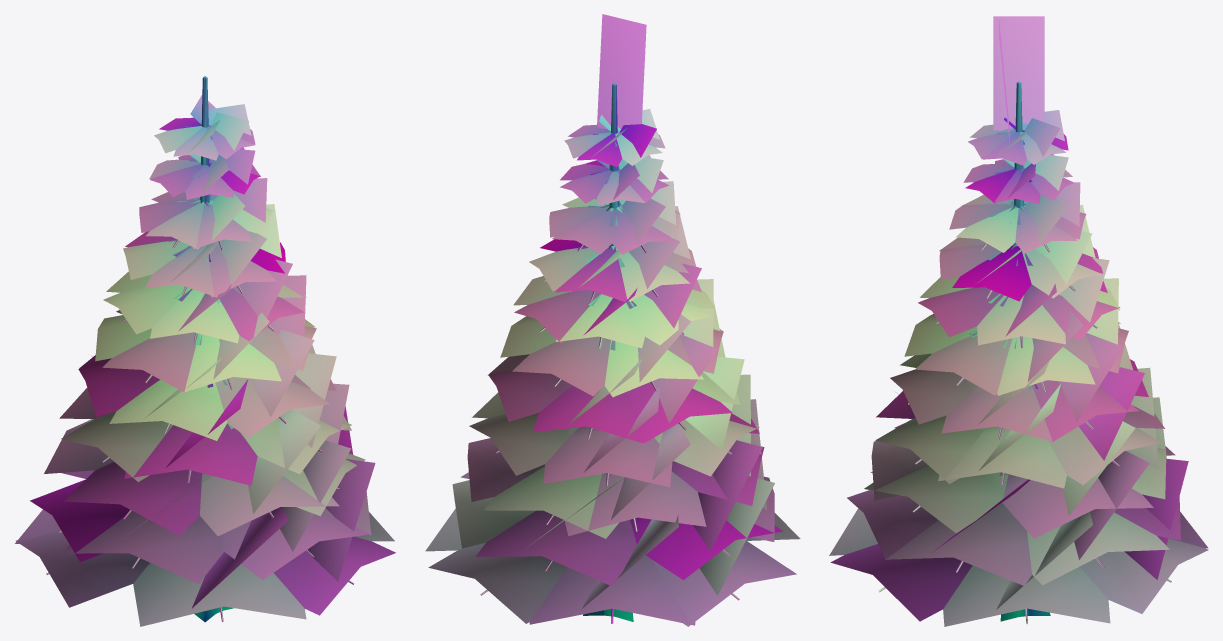
Rendered from nadelbaum.glb.
The picture shows the model from 3 angles, left to right: view 1: azimuth 30°, elevation 25°; view 2: azimuth 150°, elevation 25°; view 3: azimuth 270°, elevation 25°; orthographic projection.
Visible parts, largest first — view 1: nadelbaum_lod0; view 2: nadelbaum_lod0; view 3: nadelbaum_lod0.
Part boxes in pixels (x1=…): nadelbaum_lod0: x1=15, y1=76, x2=395, y2=626; nadelbaum_lod0: x1=425, y1=14, x2=800, y2=626; nadelbaum_lod0: x1=829, y1=16, x2=1208, y2=626.
Size of what is drawn, in the model's own units: 7.01 by 12.56 by 7.41.
